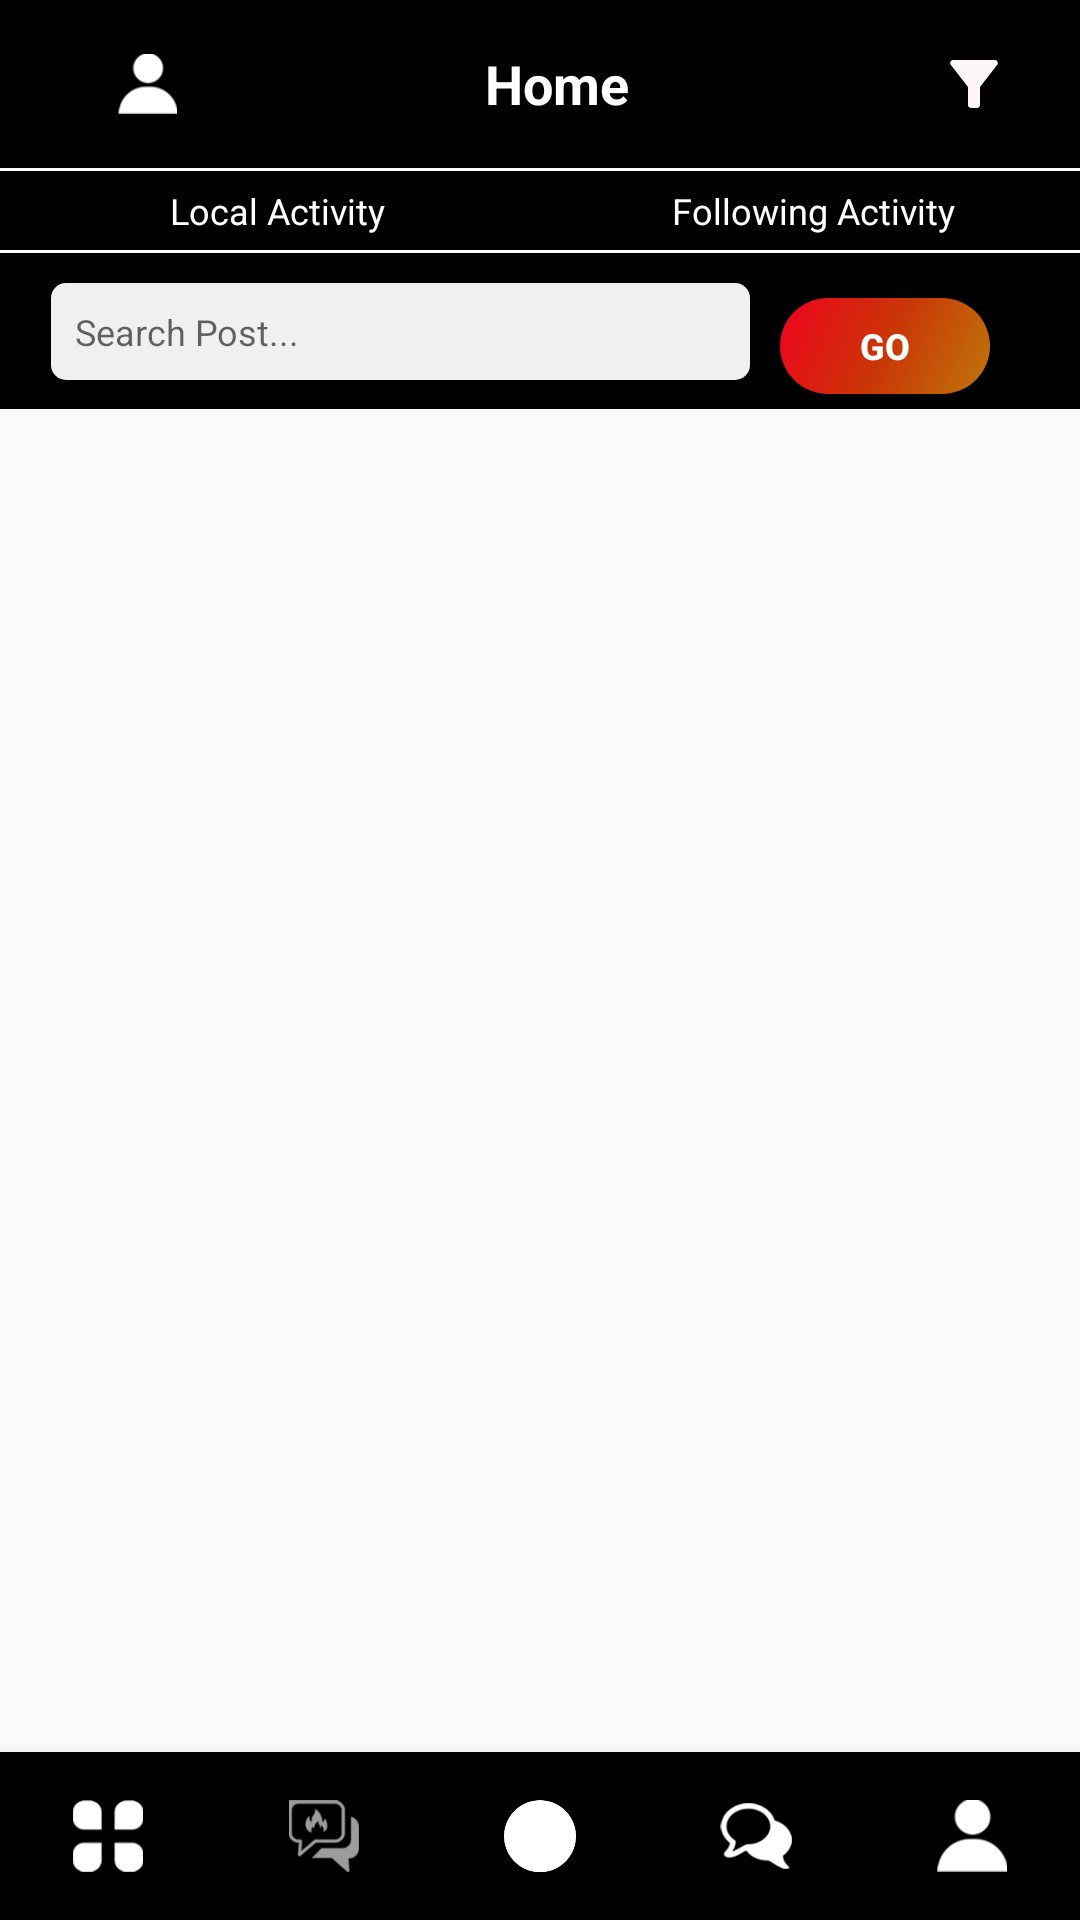

Screen size 1080 x 1920. Icon name, then its center in pixels as (x=x, y=y):
account: (x=147, y=84)
filter: (x=974, y=84)
